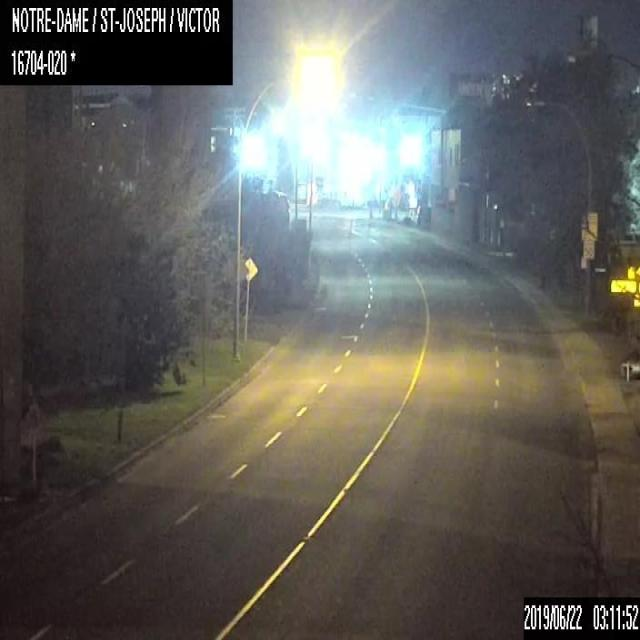construction: (607, 225, 639, 380)
